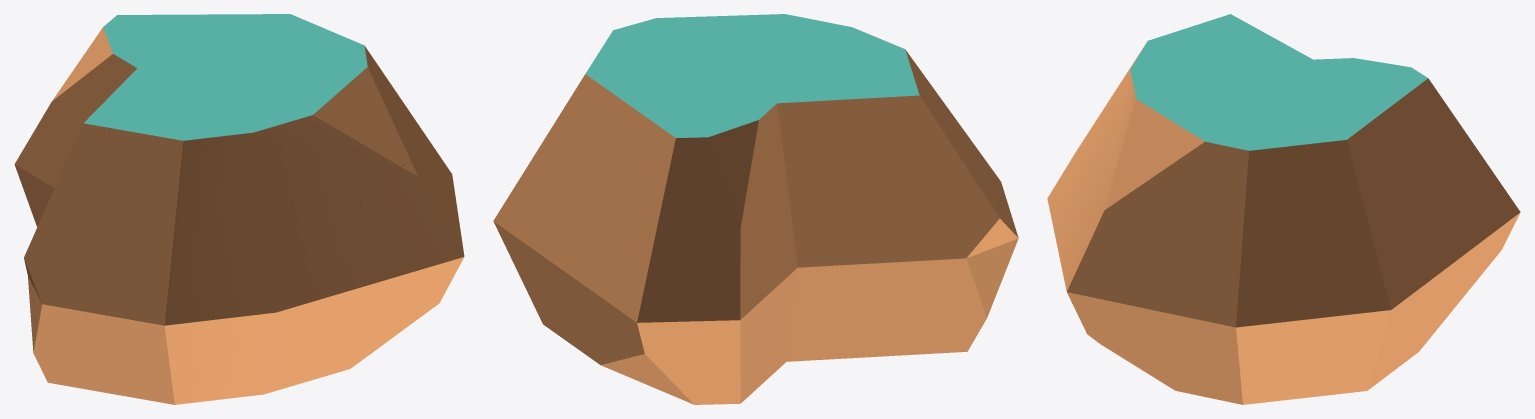
The model's file is rock_large4.obj.
3 views of the same model, side by side, from view 1: azimuth 30°, elevation 25°; view 2: azimuth 150°, elevation 25°; view 3: azimuth 270°, elevation 25° (orthographic). The views are drawn at different scales.
Visible parts, largest first — view 1: rock_large4; view 2: rock_large4; view 3: rock_large4.
Part boxes in pixels (x1=…): rock_large4: x1=14, y1=14, x2=464, y2=404; rock_large4: x1=493, y1=14, x2=1018, y2=404; rock_large4: x1=1047, y1=14, x2=1520, y2=404.
Bounding box in the file's own units: 10.69 × 5.68 × 10.3.
